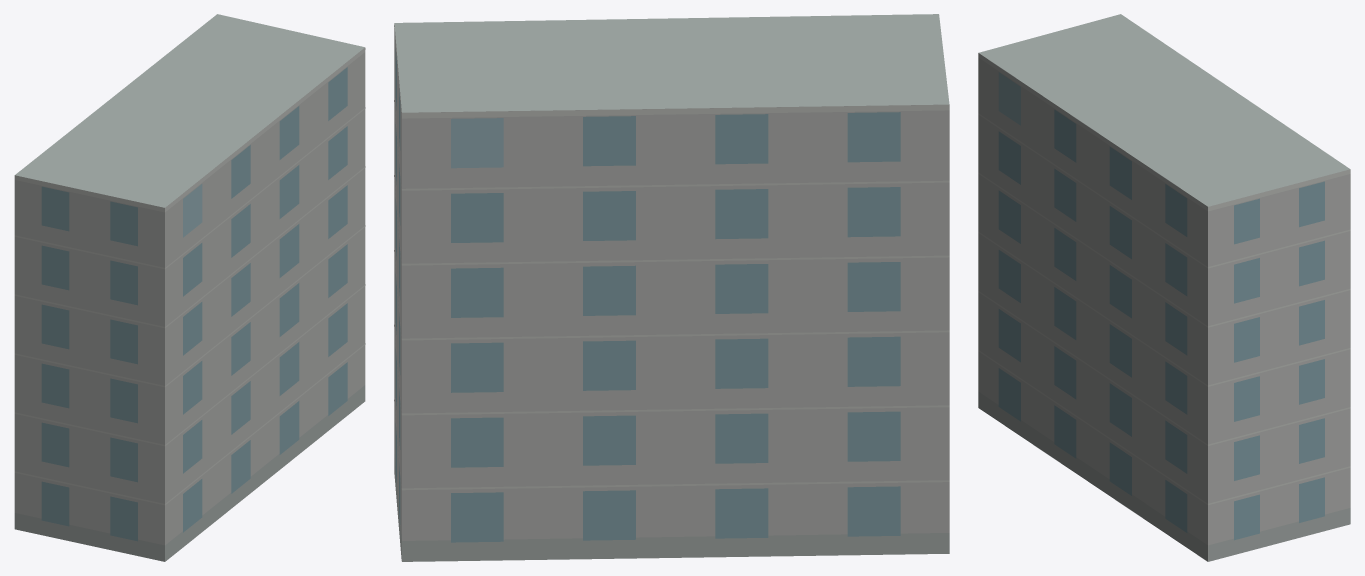
The model's file is survey-upis-32736703.glb.
3 views of the same model, side by side, from view 1: azimuth 30°, elevation 25°; view 2: azimuth 150°, elevation 25°; view 3: azimuth 270°, elevation 25° (orthographic). The views are drawn at different scales.
Visible parts, largest first — view 1: survey-upis-32736703.tmp; view 2: survey-upis-32736703.tmp; view 3: survey-upis-32736703.tmp.
Boxes of the visible parts, x1=… form: survey-upis-32736703.tmp: x1=14, y1=14, x2=365, y2=561; survey-upis-32736703.tmp: x1=394, y1=14, x2=949, y2=561; survey-upis-32736703.tmp: x1=978, y1=14, x2=1350, y2=561.
Size of the model in its own units: 21.81 by 18.7 by 17.79.
